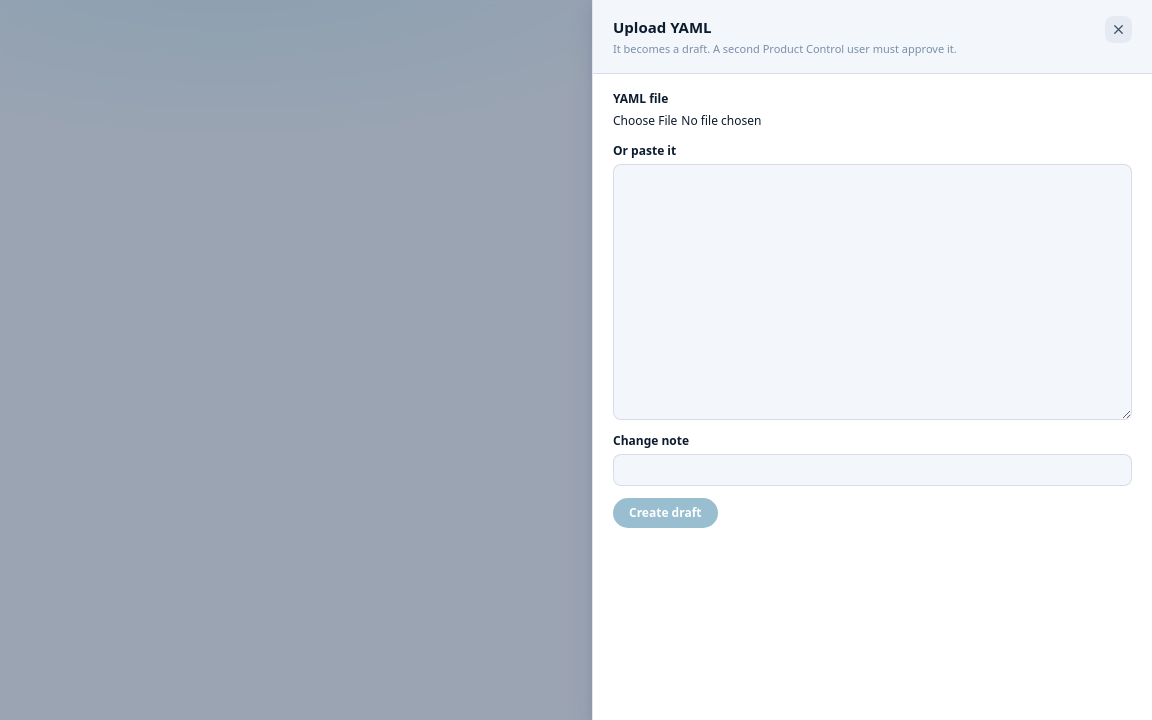
Test case: shows the server’s line-numbered problems
This screenshot has width=1152, height=720.
Type "steps: [ []" into the text box named "YAML text".
click(872, 292); type("steps: [ []")  # box [613,164,1132,420]
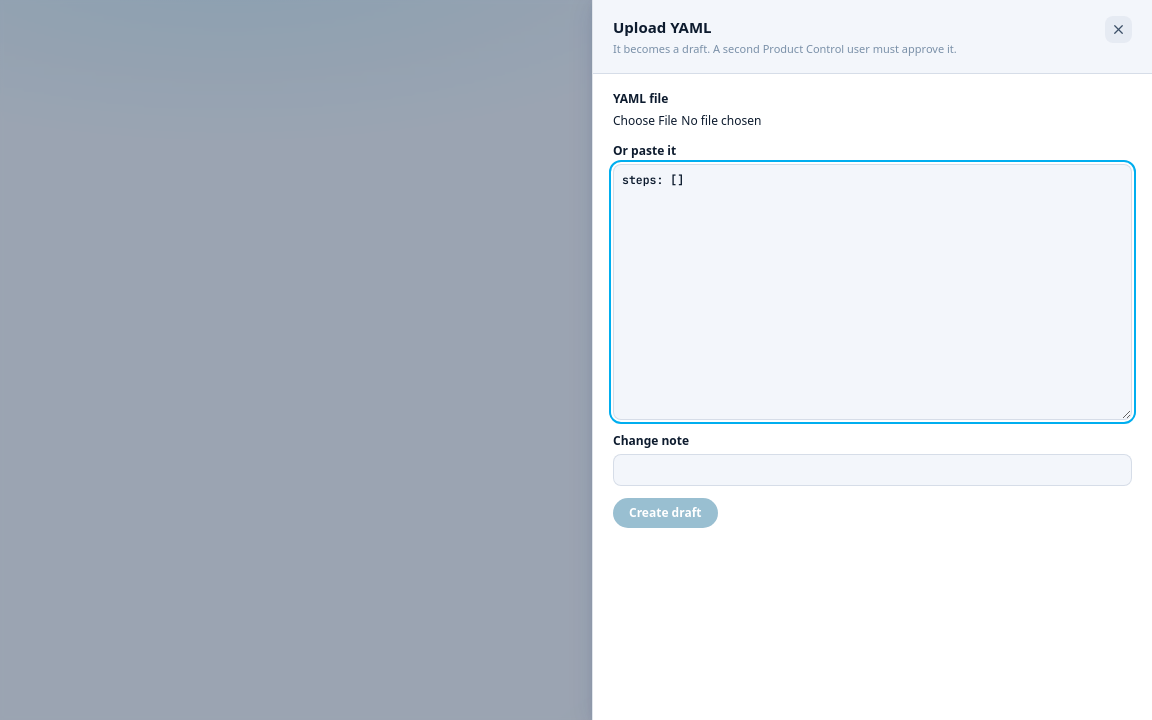
Type "from the repo" into the field labelled "Change note".
click(872, 470); type("from the repo")  # box [613,454,1132,486]
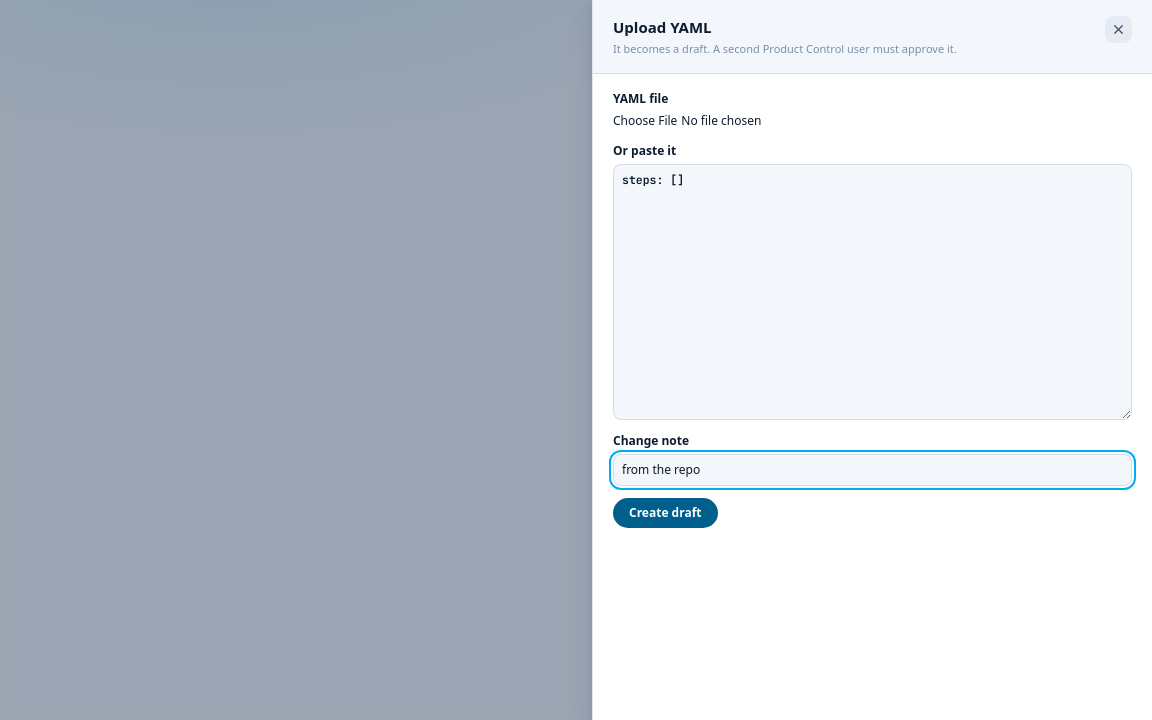
Click the button "Create draft".
click(665, 512)  # box [613,498,718,528]
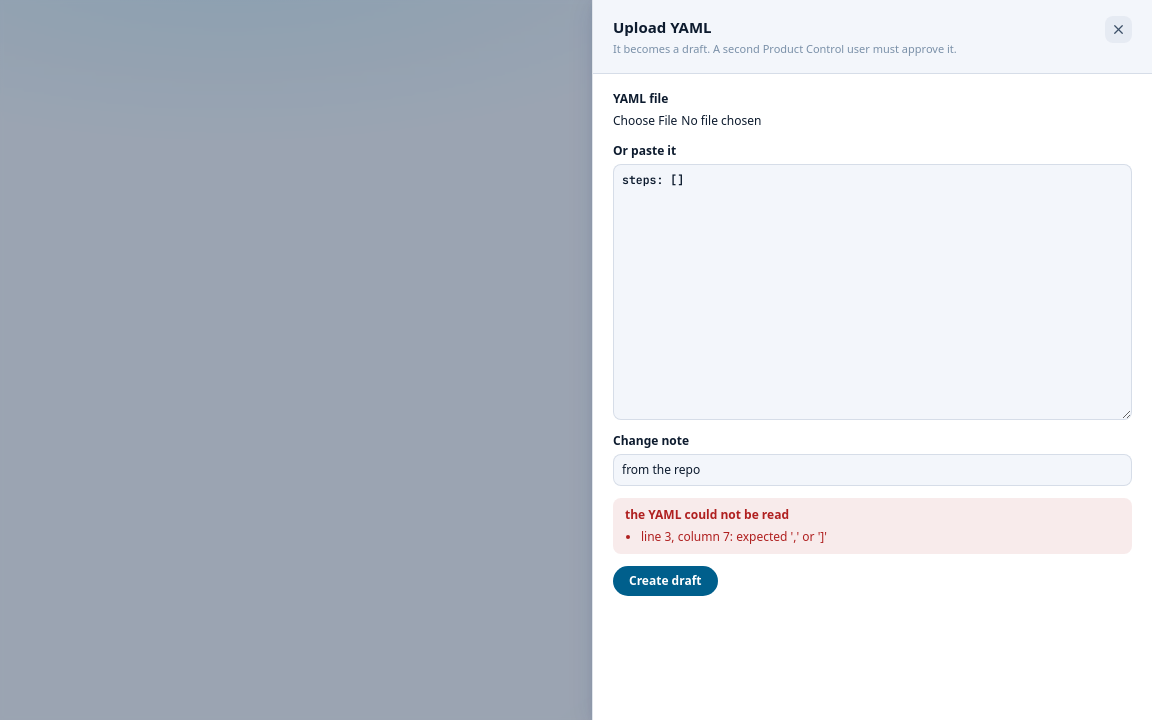
Check: the list item "line 3, column 7: expected ',' or ']'" is shown, box [641,528,827,544]
